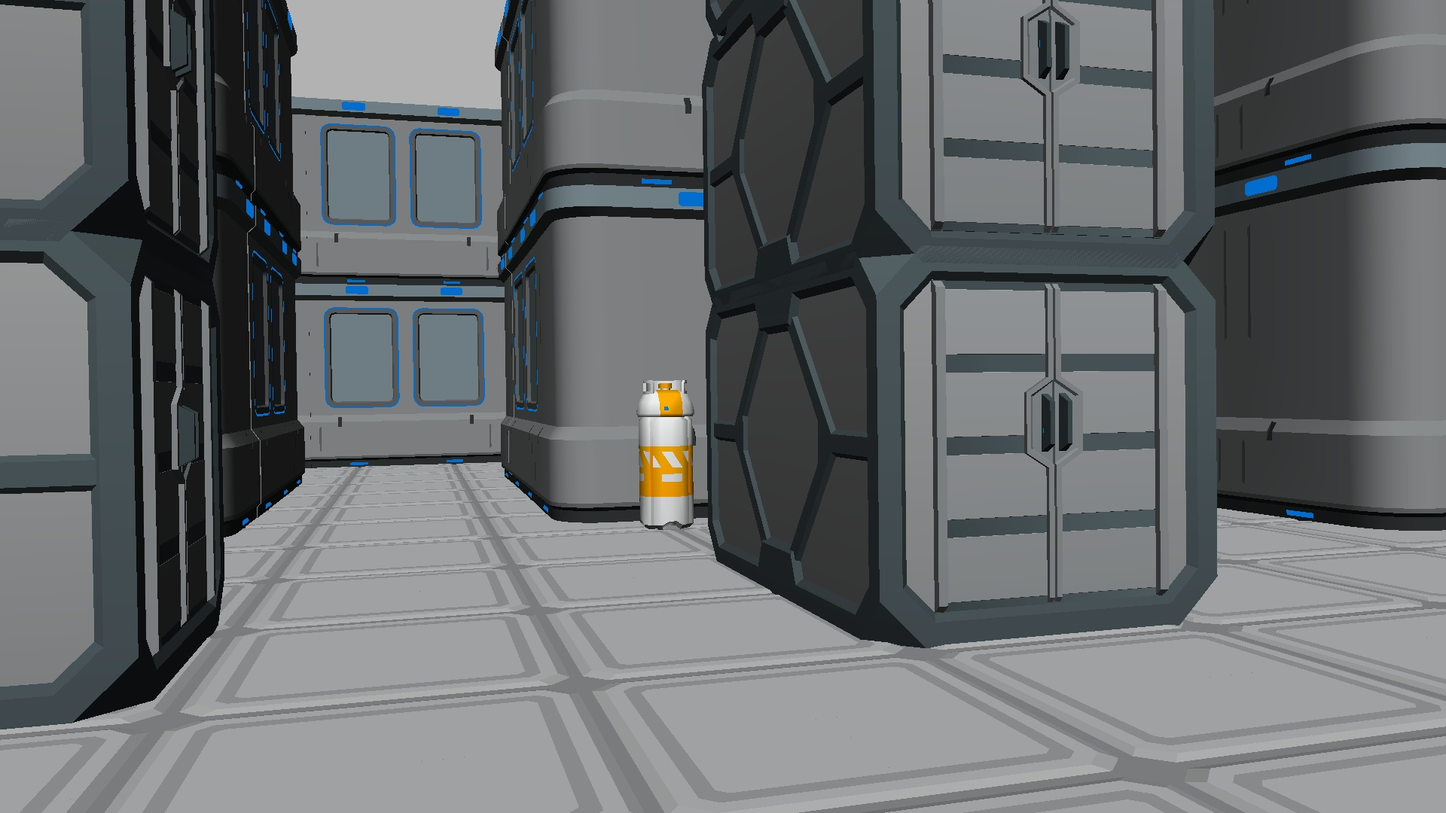yellow barrel: (636, 380, 696, 530)
